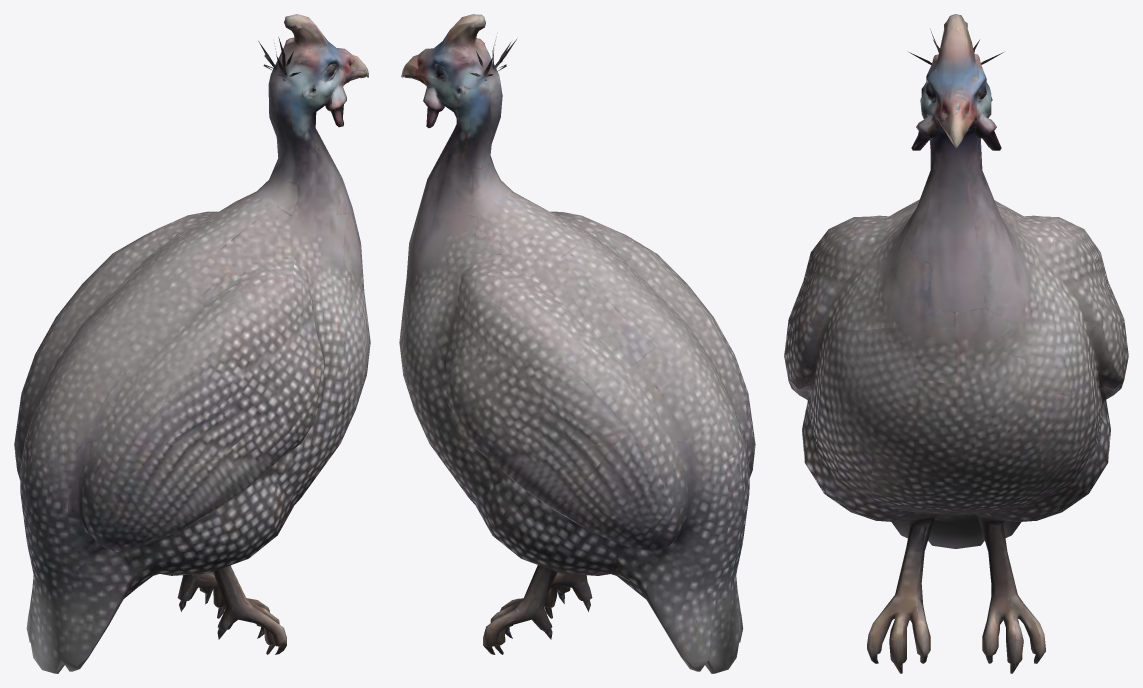
Rendered from galinha_angola.glb.
3 renders of one model, left to right at view 1: azimuth 30°, elevation 25°; view 2: azimuth 150°, elevation 25°; view 3: azimuth 270°, elevation 25°, orthographic. The views are drawn at different scales.
Parts seen in each view (by area): view 1: Galinha d'angola; view 2: Galinha d'angola; view 3: Galinha d'angola.
Boxes of the visible parts, left/top/right/bottom form: Galinha d'angola: left=14, top=14, right=370, bottom=673; Galinha d'angola: left=399, top=14, right=755, bottom=673; Galinha d'angola: left=784, top=14, right=1128, bottom=673.
Bounding box in the file's own units: 0.584 × 0.998 × 0.4551.
Materials: 1 (1 with a texture image).
